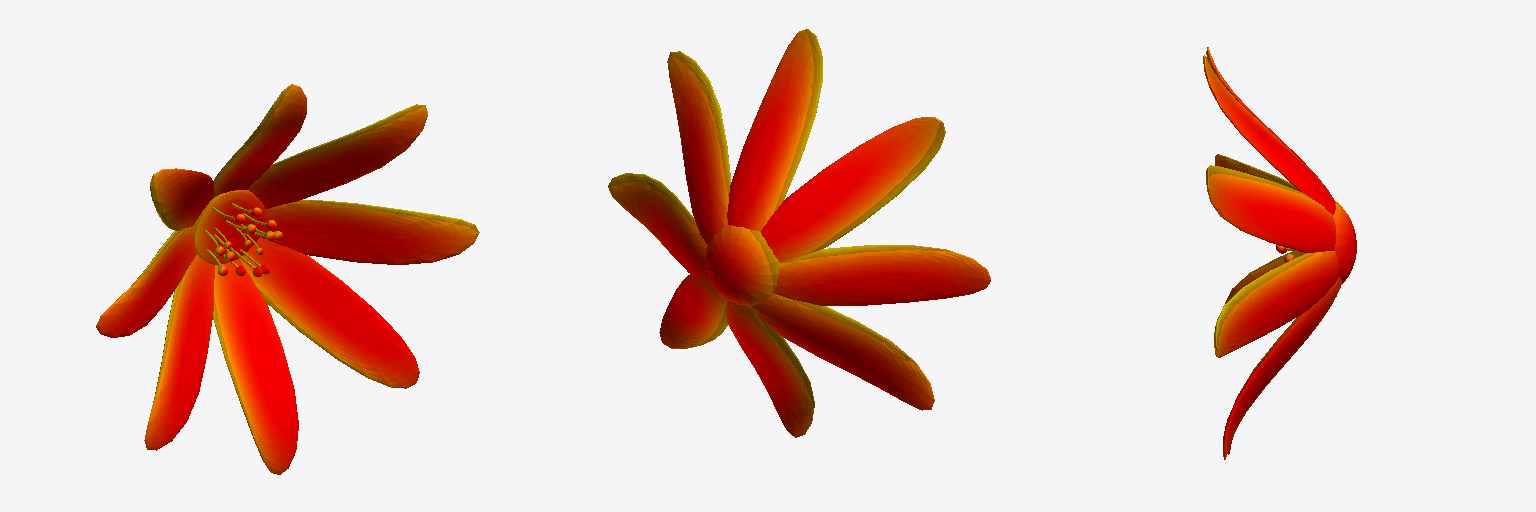
The picture shows the model from 3 angles: view 1: azimuth 30°, elevation 25°; view 2: azimuth 150°, elevation 25°; view 3: azimuth 270°, elevation 25°; orthographic projection.
Parts seen in each view (by area): view 1: Flower3; view 2: Flower3; view 3: Flower3.
Boxes of the visible parts, x1=… form: Flower3: x1=96, y1=84, x2=479, y2=474; Flower3: x1=608, y1=29, x2=990, y2=437; Flower3: x1=1203, y1=47, x2=1356, y2=459.
Bounding box in the file's own units: 5.5 × 5.48 × 1.91.
Materials: 1 (1 with a texture image).